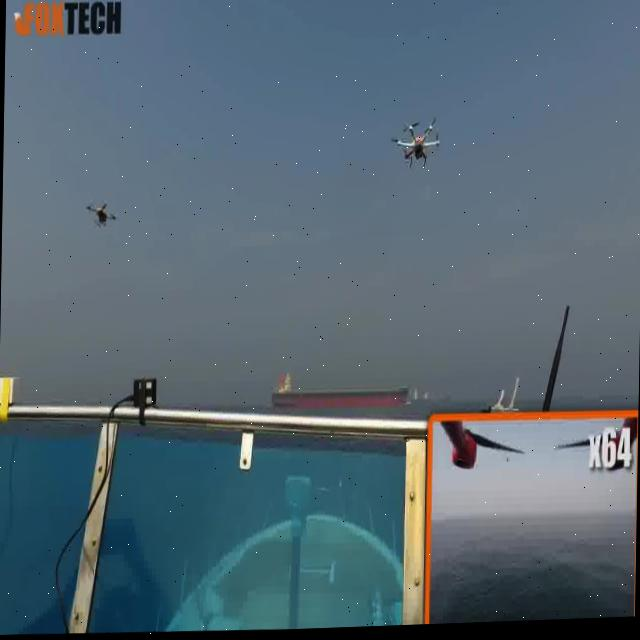drone: (390, 104, 448, 181), (80, 193, 120, 235)
